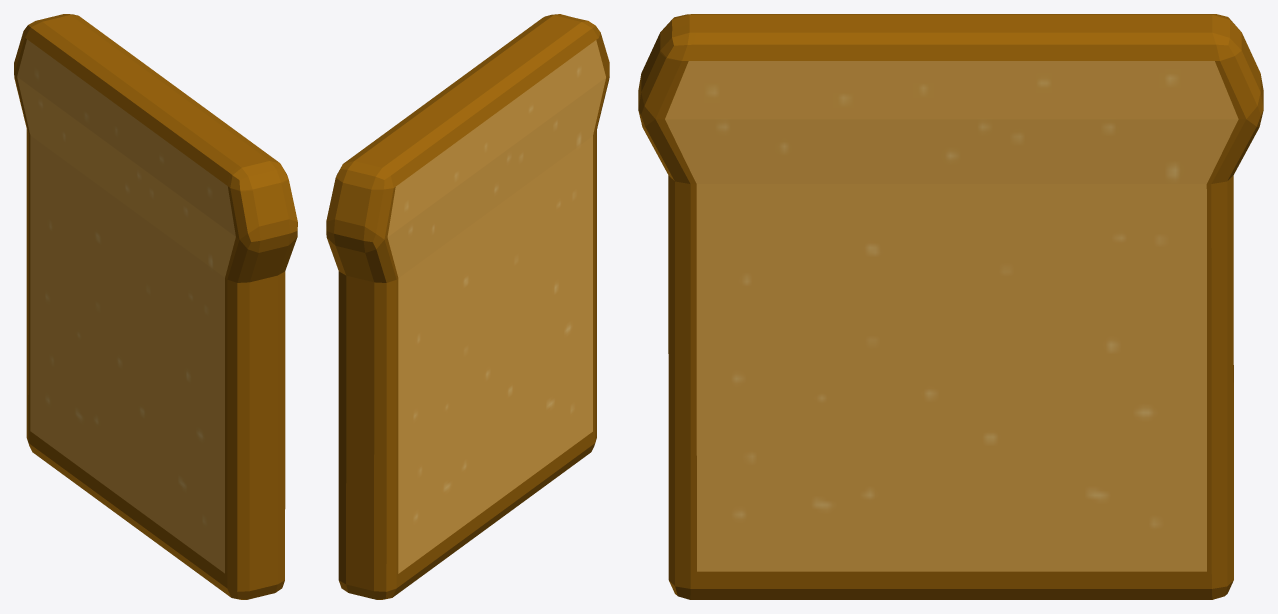
File: Bread.fbx
3 views of the same model, side by side, from view 1: azimuth 30°, elevation 25°; view 2: azimuth 150°, elevation 25°; view 3: azimuth 270°, elevation 25° (orthographic). The views are drawn at different scales.
Parts seen in each view (by area): view 1: Bread; view 2: Bread; view 3: Bread.
Part boxes in pixels (x1,y1,x2,y2): Bread: [14, 14, 297, 599]; Bread: [326, 14, 609, 599]; Bread: [638, 14, 1263, 599].
Size of the model in its own units: 31.24 by 221 by 221.
